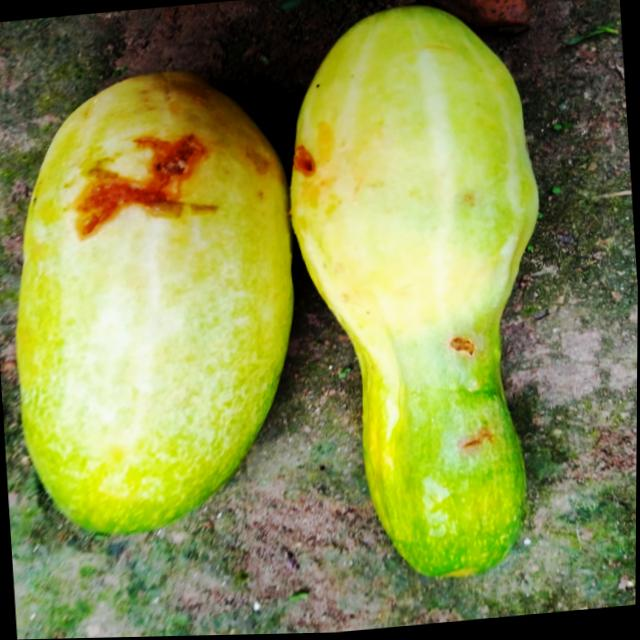Belly-Rot: (62, 118, 225, 257), (286, 125, 330, 192), (457, 425, 500, 463), (448, 334, 480, 364)
